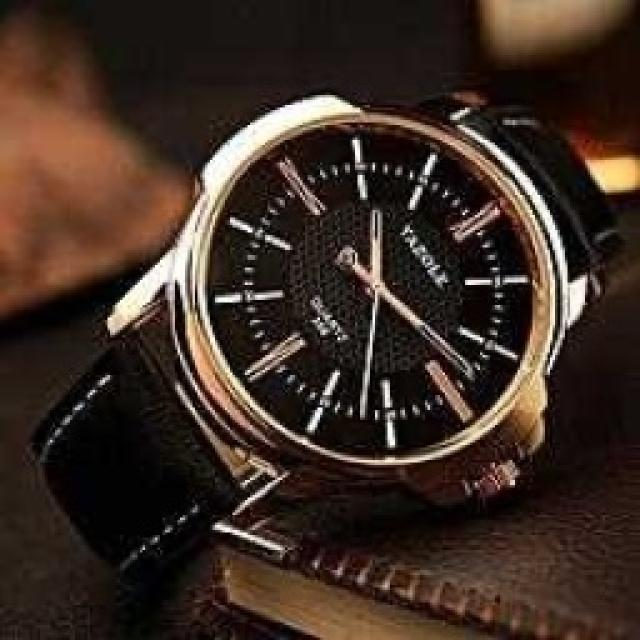saat: (30, 73, 624, 595)
